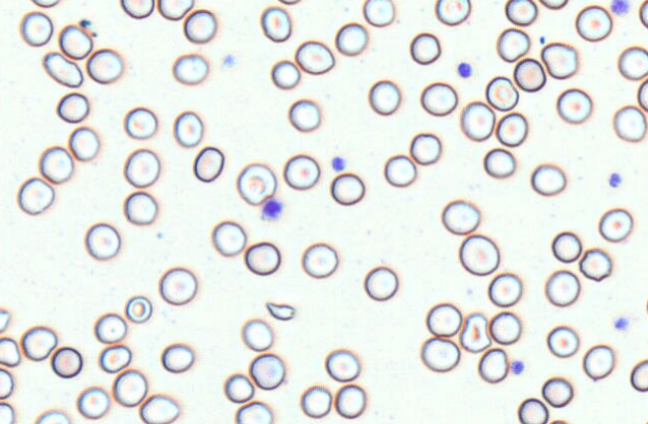PLT: (263, 200, 282, 220), (607, 171, 628, 189), (329, 154, 347, 173), (609, 0, 629, 17), (457, 62, 474, 80), (614, 316, 631, 331), (510, 360, 525, 375)
RBC: (458, 233, 499, 275), (236, 162, 276, 205), (158, 266, 197, 305), (123, 148, 160, 188), (17, 176, 54, 215), (420, 336, 460, 372), (460, 100, 495, 141), (441, 199, 480, 235), (283, 153, 320, 190), (84, 222, 120, 260), (112, 368, 147, 407), (249, 353, 285, 390), (20, 325, 57, 361), (544, 269, 580, 306), (575, 5, 612, 41), (556, 87, 592, 124), (301, 242, 338, 278), (39, 145, 74, 183), (85, 48, 123, 83), (295, 40, 334, 74), (425, 302, 462, 337), (420, 81, 457, 116), (58, 23, 93, 59), (211, 220, 246, 256), (363, 265, 398, 301), (244, 241, 281, 275), (139, 393, 180, 423), (487, 272, 522, 307), (598, 207, 633, 242), (485, 75, 519, 111), (613, 105, 646, 142), (496, 27, 530, 62), (19, 11, 53, 46), (123, 190, 157, 225), (582, 344, 615, 380), (324, 349, 360, 382), (495, 111, 528, 147), (530, 163, 566, 196), (368, 79, 401, 115), (329, 172, 365, 205), (578, 247, 612, 281), (513, 57, 546, 92), (192, 146, 224, 182), (76, 386, 110, 419), (334, 22, 368, 55), (183, 9, 216, 43), (334, 383, 366, 418), (477, 347, 508, 383), (260, 6, 291, 42), (172, 53, 208, 84), (173, 110, 203, 147), (383, 154, 416, 187), (124, 106, 157, 139), (489, 310, 521, 344), (288, 98, 320, 132), (68, 126, 99, 161), (241, 318, 273, 351), (50, 346, 83, 378), (300, 385, 332, 418), (409, 32, 441, 65), (409, 132, 441, 165), (546, 325, 579, 357), (617, 45, 647, 80), (94, 312, 127, 343), (56, 92, 89, 123), (160, 343, 194, 373), (541, 376, 573, 407), (483, 147, 515, 178), (551, 231, 582, 263), (98, 343, 131, 373), (434, 0, 471, 25), (224, 373, 254, 403), (270, 59, 300, 89), (362, 0, 395, 27), (504, 0, 537, 26), (235, 401, 272, 423), (517, 397, 548, 423), (124, 295, 152, 323), (157, 0, 194, 20), (0, 336, 21, 367), (120, 0, 154, 19), (630, 359, 648, 392), (0, 367, 14, 399), (35, 410, 69, 423), (78, 18, 97, 38), (637, 77, 648, 111), (0, 401, 14, 423), (539, 0, 568, 9), (0, 307, 10, 333), (639, 0, 648, 28), (31, 0, 60, 8), (278, 0, 302, 5), (548, 418, 567, 423), (645, 292, 648, 316)
Schistocyte: (542, 42, 579, 80), (43, 53, 83, 88), (461, 313, 492, 354), (265, 301, 295, 322)
